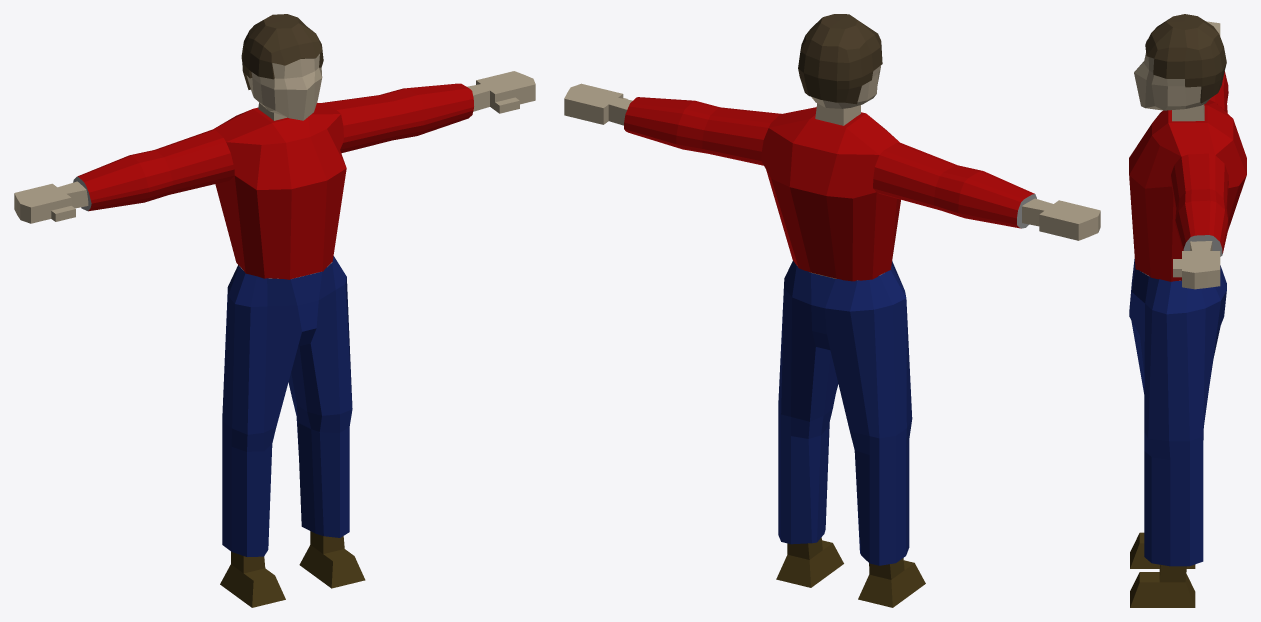
The model's file is Normal_person.fbx.
3 views of the same model, side by side, from view 1: azimuth 30°, elevation 25°; view 2: azimuth 150°, elevation 25°; view 3: azimuth 270°, elevation 25° (orthographic). The views are drawn at different scales.
Visible parts, largest first — view 1: Normal_person; view 2: Normal_person; view 3: Normal_person.
Part boxes in pixels (x1,y1,x2,y2): Normal_person: [14, 14, 535, 607]; Normal_person: [564, 14, 1100, 607]; Normal_person: [1129, 14, 1246, 607].
Bounding box in the file's own units: 180 × 185 × 35.44.
